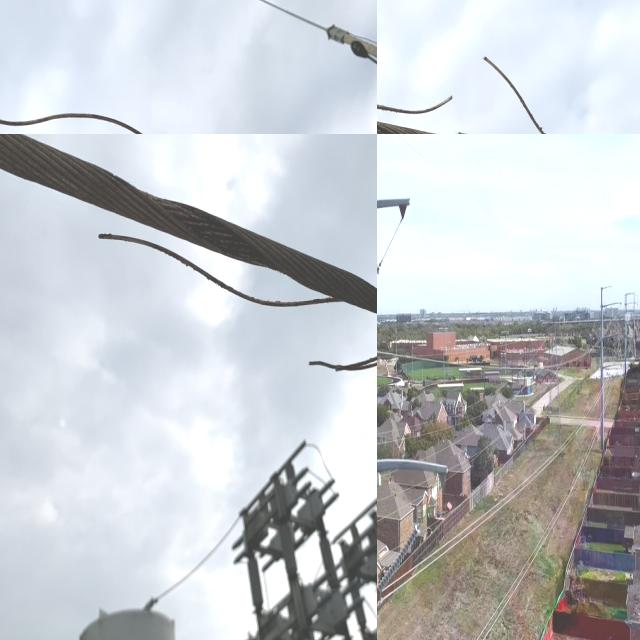正常电缆: (422, 409, 590, 578), (387, 134, 570, 283), (470, 439, 597, 640), (377, 343, 597, 377)
正常绝缘子: (377, 522, 429, 608)
电缆破损: (69, 165, 377, 385), (377, 38, 608, 134)
